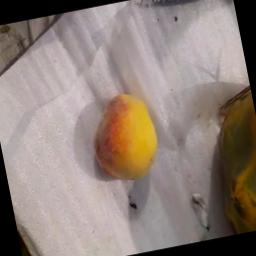Peach Unripe: (82, 80, 167, 188)
